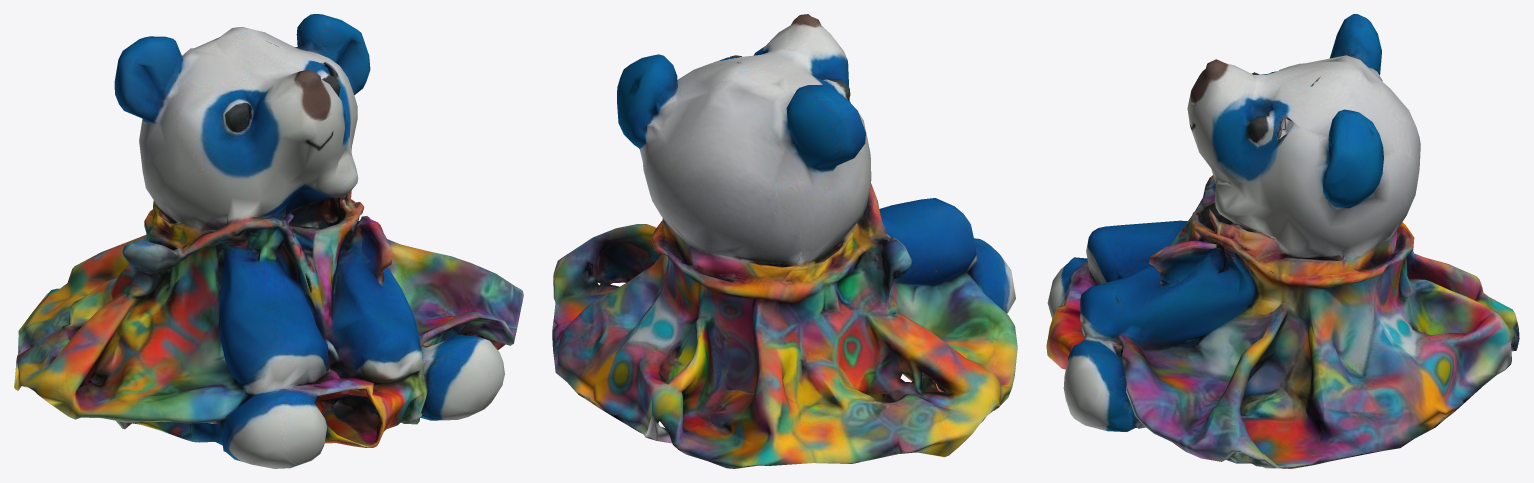
Rendered from panda.glb.
3 renders of one model, left to right at view 1: azimuth 30°, elevation 25°; view 2: azimuth 150°, elevation 25°; view 3: azimuth 270°, elevation 25°, orthographic. The views are drawn at different scales.
Size of the model in its own units: 2 by 1.39 by 1.81.
Materials: 1 (1 with a texture image).
